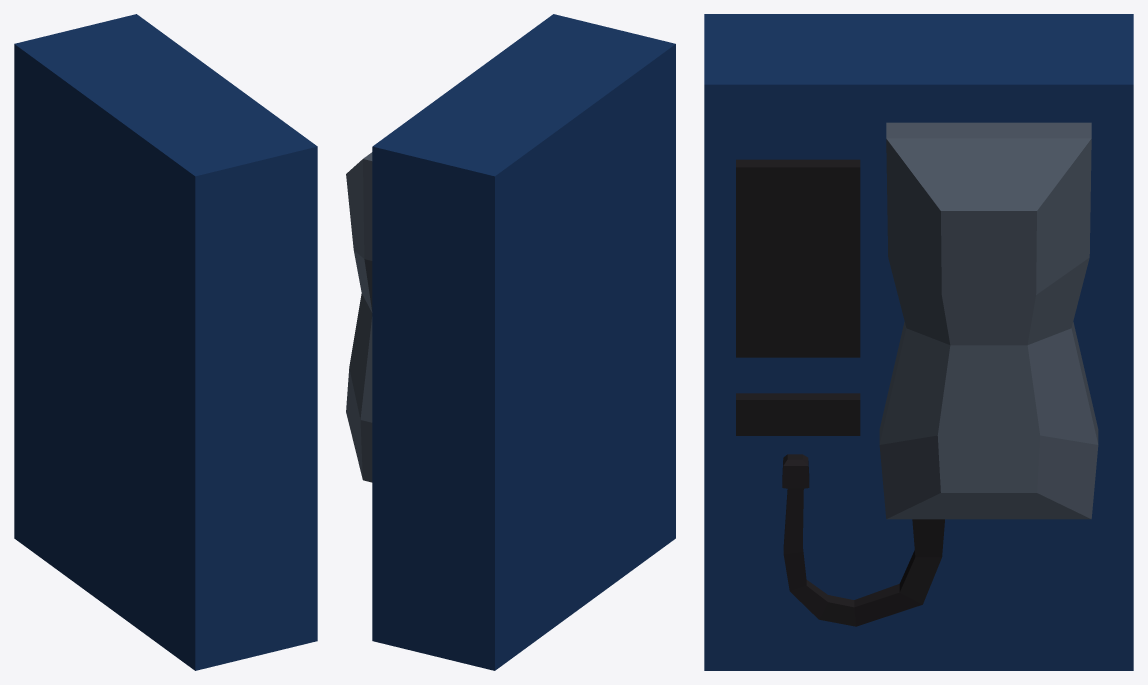
The model's file is telephone.fbx.
The picture shows the model from 3 angles, left to right: view 1: azimuth 30°, elevation 25°; view 2: azimuth 150°, elevation 25°; view 3: azimuth 270°, elevation 25°; orthographic projection. The views are drawn at different scales.
Parts seen in each view (by area): view 1: Cube.001; view 2: Cube.001; view 3: Cube.001.
Boxes of the visible parts, x1,y1,x2,y2 form: Cube.001: [14, 14, 317, 670]; Cube.001: [346, 14, 675, 670]; Cube.001: [704, 14, 1133, 670].
Bounding box in the file's own units: 309 × 187 × 466.
